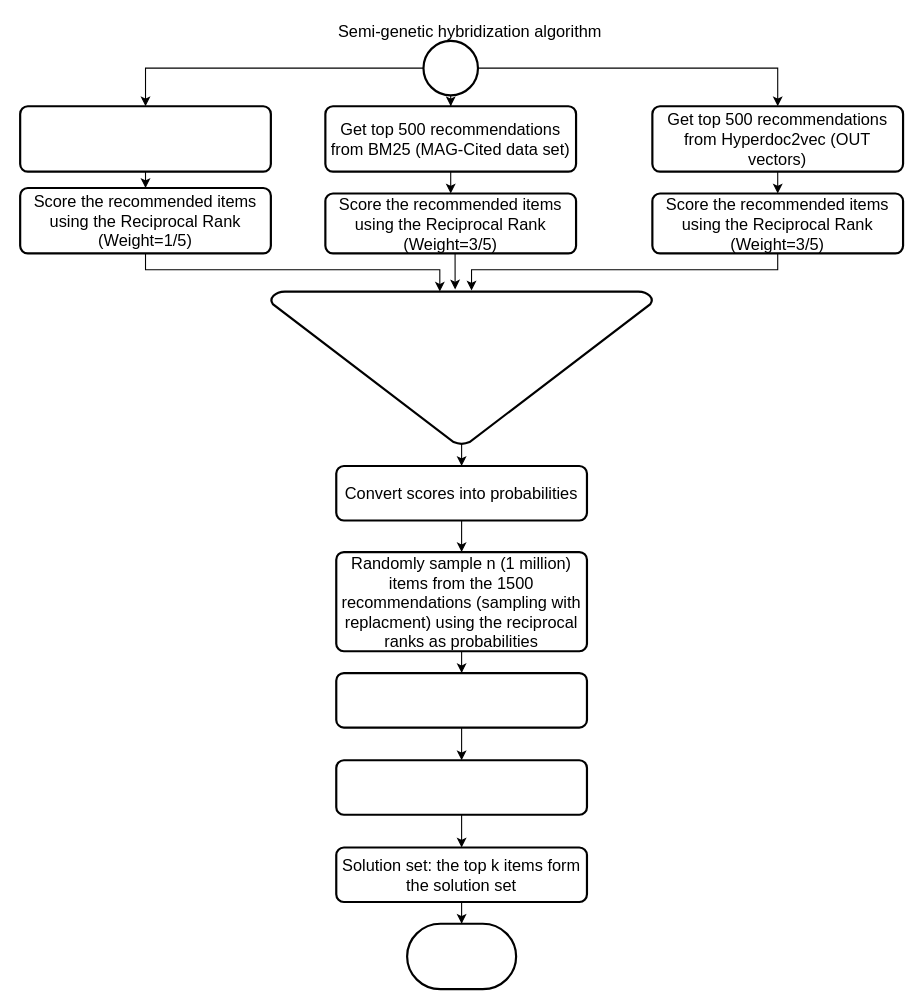
The diagram is 922 pixels wide and 1008 high, and some of its shapes have lost their labels. Here are the shapes that lost their labels. From the top down, the box of each, then its label:
(19, 105, 271, 172): Get top 500 recommendations from BM25 (MAG data set)
(269, 290, 653, 445): Merge recommendations: Result: 1500 recommendations with corresponding scores
(335, 671, 588, 728): Count the frequencies of all the items
(335, 759, 588, 815): Sort the recommended items in descending order of frequeny
